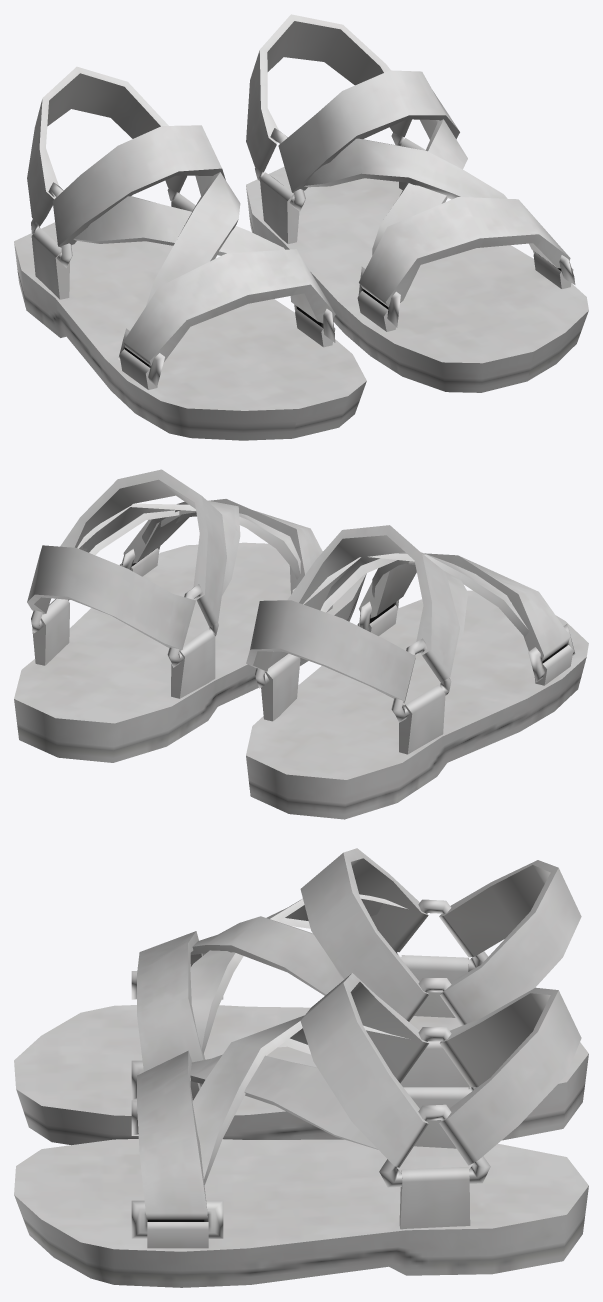
The model's file is p0_ftw0005_00_ftw00.gltf.
The picture shows the model from 3 angles, top to bottom: view 1: azimuth 30°, elevation 25°; view 2: azimuth 150°, elevation 25°; view 3: azimuth 270°, elevation 25°; orthographic projection. The views are drawn at different scales.
Parts seen in each view (by area): view 1: ftw00_shoes_mesh_shape:shoes; view 2: ftw00_shoes_mesh_shape:shoes; view 3: ftw00_shoes_mesh_shape:shoes.
Boxes of the visible parts, left/top/right/bottom form: ftw00_shoes_mesh_shape:shoes: left=14, top=14, right=588, bottom=440; ftw00_shoes_mesh_shape:shoes: left=14, top=469, right=588, bottom=819; ftw00_shoes_mesh_shape:shoes: left=14, top=848, right=588, bottom=1287.
Size of what is drawn, in the model's own units: 0.235 by 0.1104 by 0.2299.
1 material, 1 textured.
